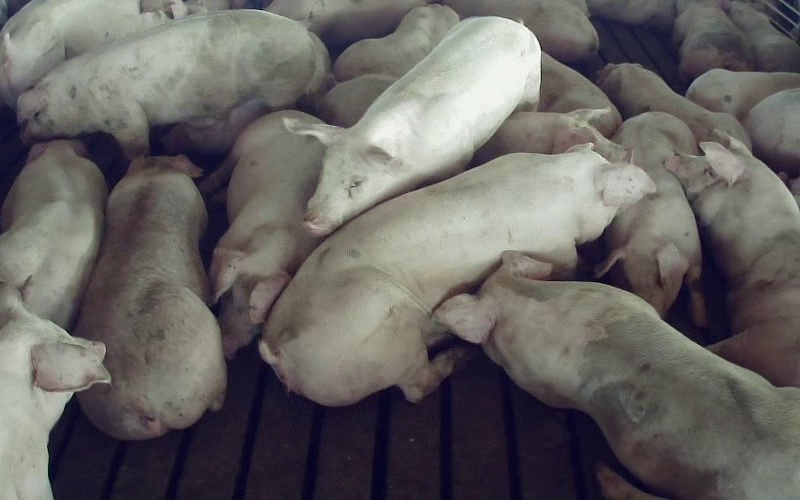pig: (260, 146, 654, 404), (436, 252, 799, 499), (286, 18, 540, 234), (18, 11, 315, 156), (75, 156, 226, 439), (666, 132, 799, 385), (200, 111, 324, 357), (0, 140, 107, 328), (597, 64, 750, 147), (333, 4, 458, 81), (672, 0, 753, 80), (727, 2, 799, 71)
